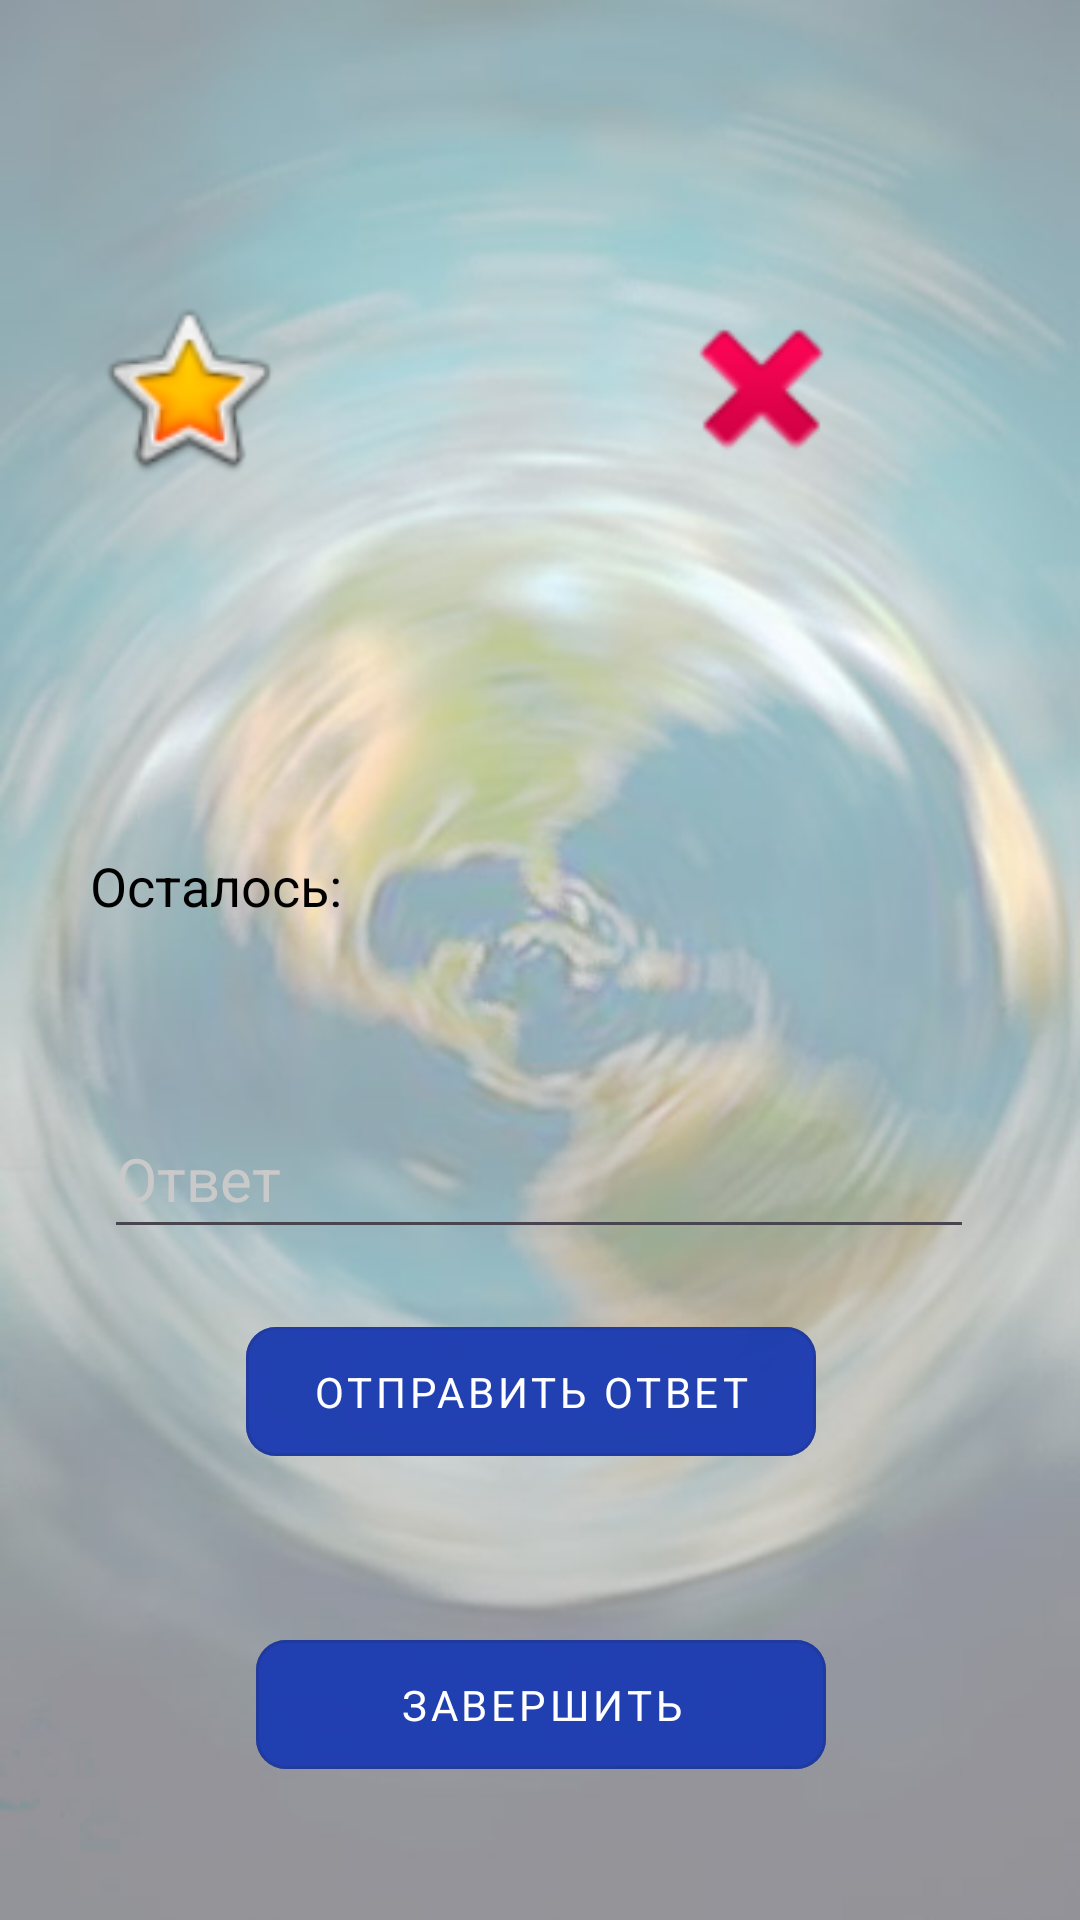

Screen size 1080px x 1920px. Icon name, then its center in pixels as point (x, y):
delete: point (761, 388)
star on: point (187, 388)
